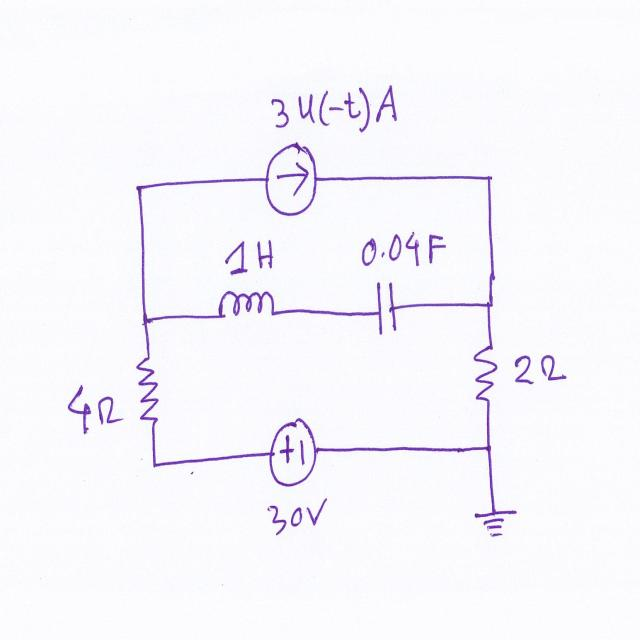capacitor: (372, 276, 401, 338)
current_source: (261, 140, 322, 219)
ground: (472, 506, 524, 542)
inductor: (209, 281, 280, 324)
resistor: (132, 347, 168, 434), (467, 337, 500, 410)
voltage_source: (266, 418, 320, 487)
